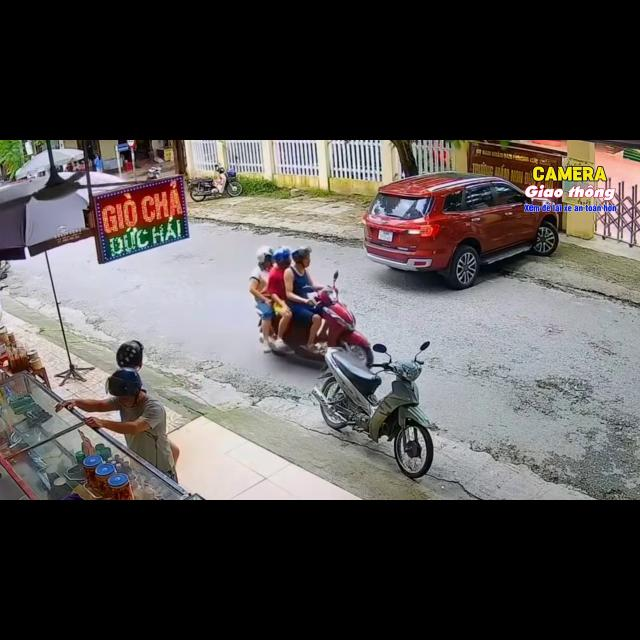car: (363, 172, 558, 289)
motorcycle: (312, 342, 433, 478), (315, 271, 373, 364), (189, 164, 242, 201), (147, 166, 161, 180), (0, 261, 10, 279)
